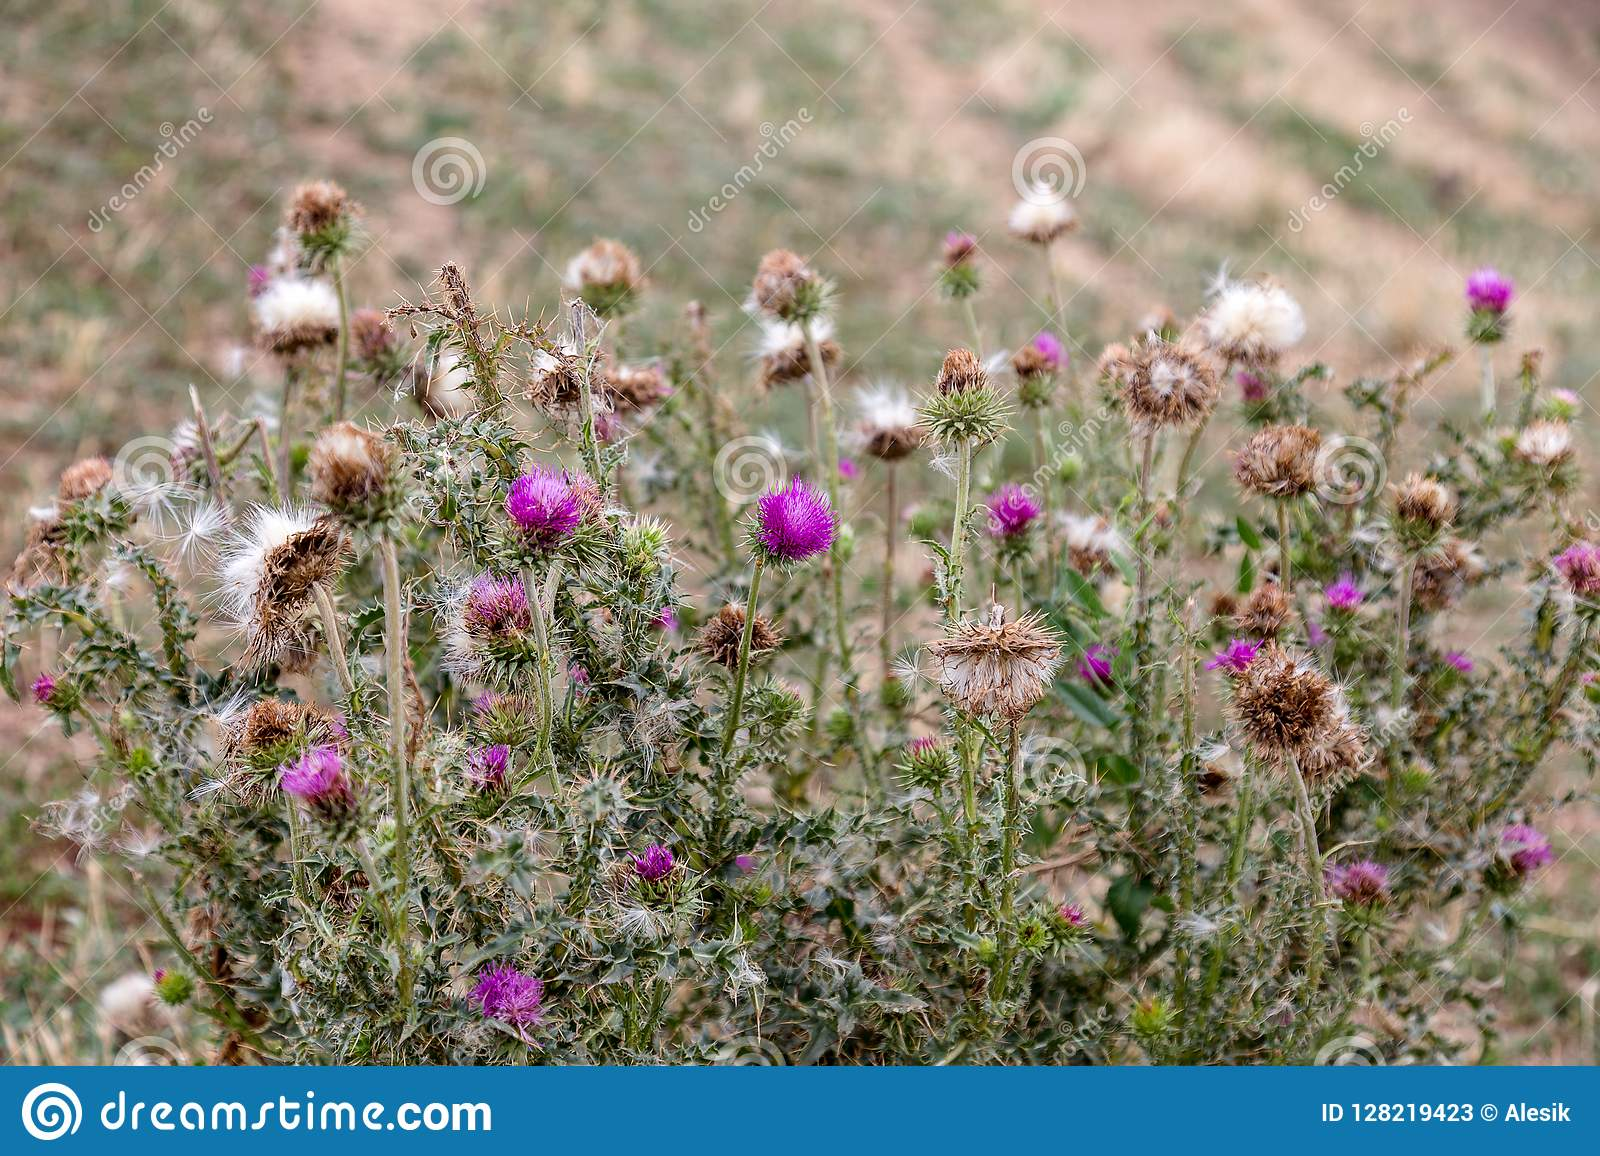thistle: (268, 760, 390, 853), (488, 476, 583, 584), (738, 482, 841, 580), (615, 851, 712, 935), (465, 970, 555, 1045), (1453, 264, 1525, 358), (985, 485, 1042, 567)
